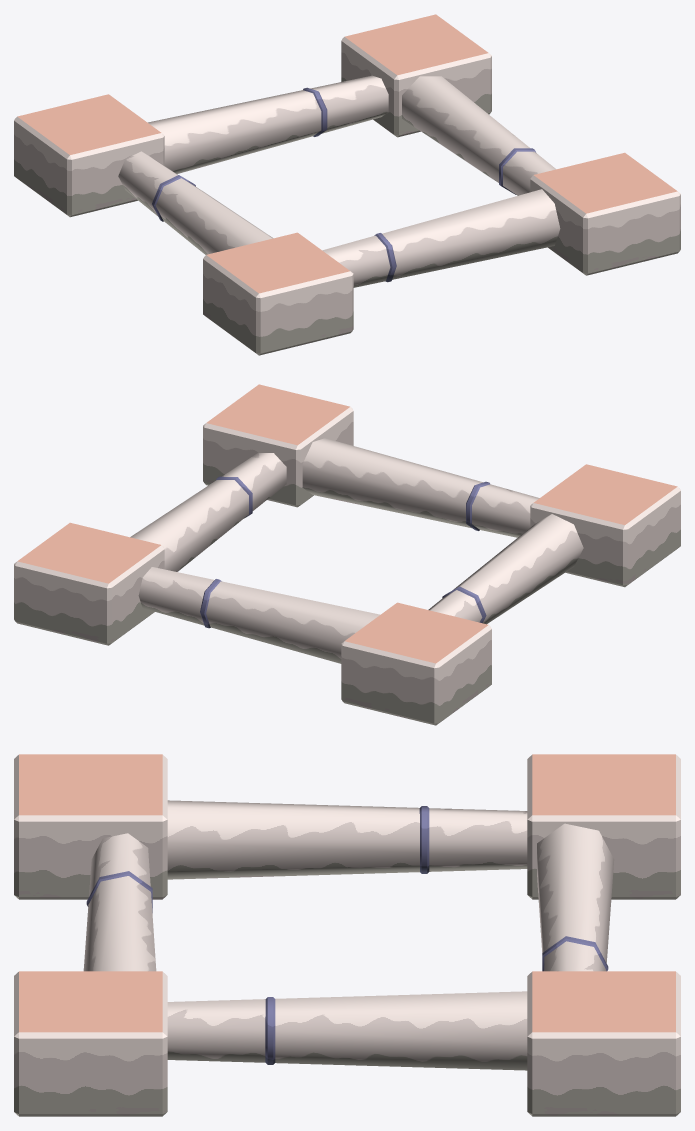
Rendered from R4C_ROD_FRAME_LOD1.glb.
The picture shows the model from 3 angles, top to bottom: view 1: azimuth 30°, elevation 25°; view 2: azimuth 150°, elevation 25°; view 3: azimuth 270°, elevation 25°; orthographic projection. The views are drawn at different scales.
Visible parts, largest first — view 1: R4C_ROD_FRAME_LOD1; view 2: R4C_ROD_FRAME_LOD1; view 3: R4C_ROD_FRAME_LOD1.
Part boxes in pixels (bbox=[...]): R4C_ROD_FRAME_LOD1: bbox=[14, 14, 680, 355]; R4C_ROD_FRAME_LOD1: bbox=[14, 384, 680, 725]; R4C_ROD_FRAME_LOD1: bbox=[14, 754, 680, 1116].
Size of the model in its own units: 1.62 by 0.226 by 1.62.
Materials: 3 (3 with a texture image).
